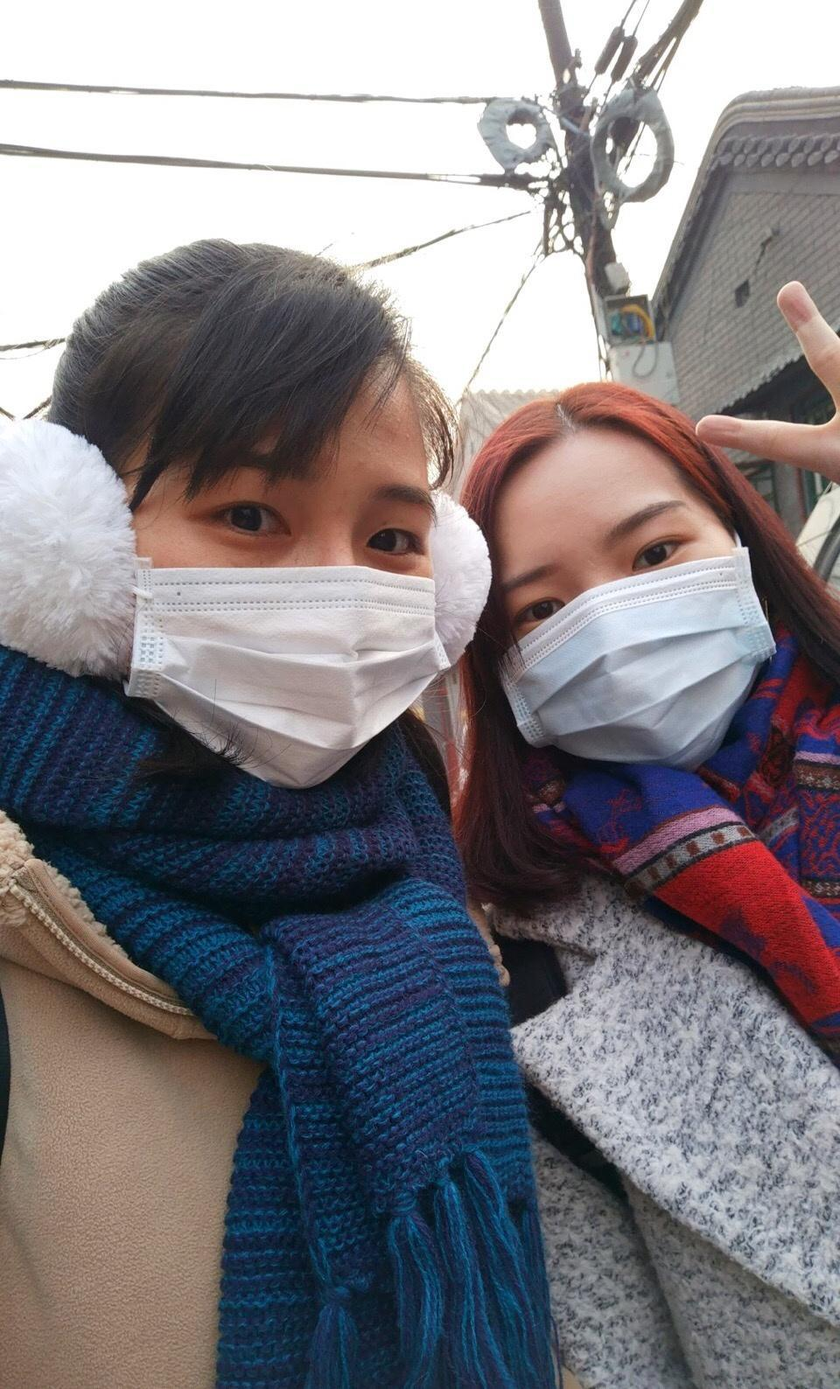OK: (116, 417, 484, 785), (486, 485, 777, 777)
